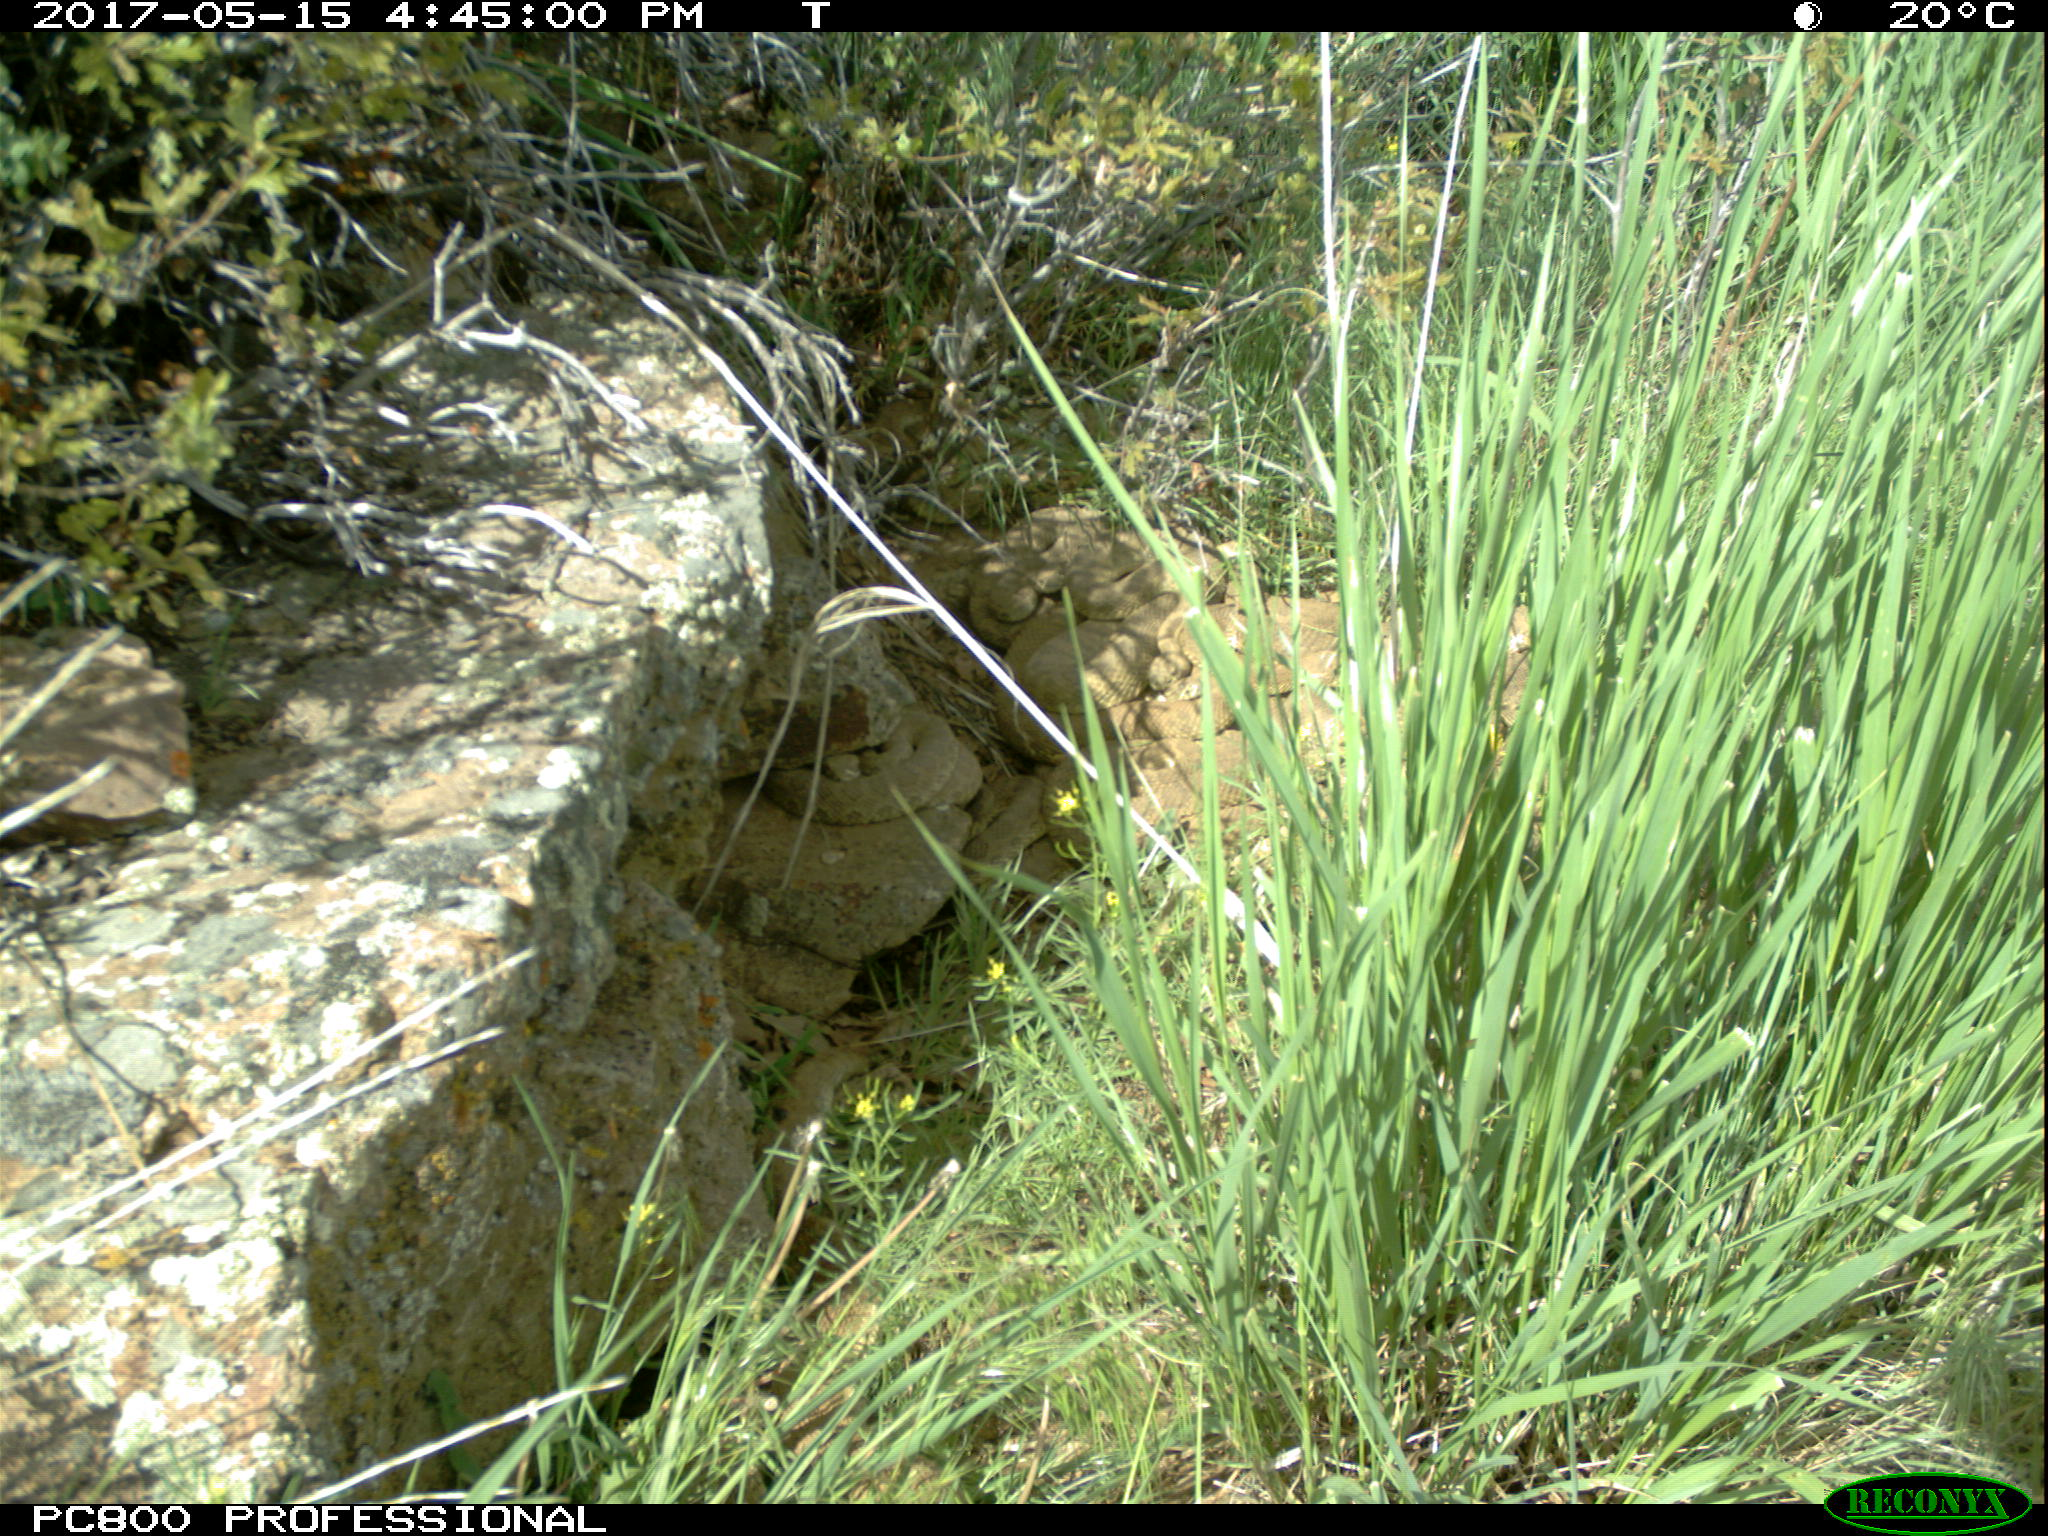snake: (774, 703, 987, 826), (1147, 597, 1347, 726), (997, 620, 1172, 762), (919, 507, 1101, 626), (1071, 529, 1229, 649), (1121, 729, 1261, 841), (768, 1049, 856, 1199)
